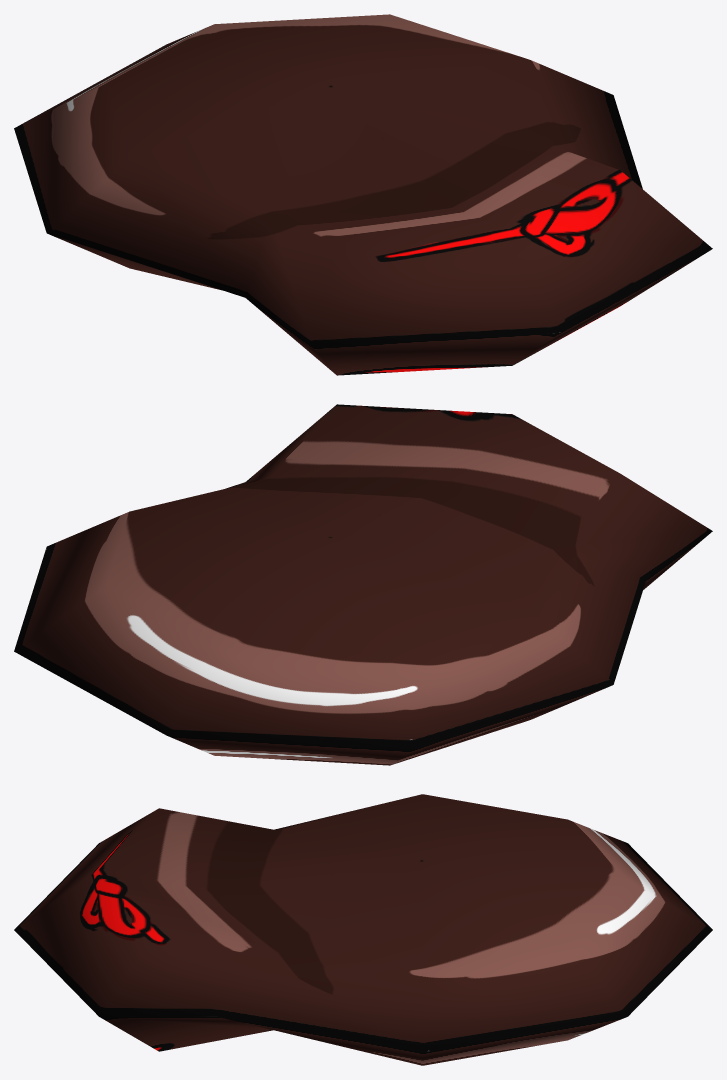
Rendered from castanyuela.obj.
The picture shows the model from 3 angles, top to bottom: view 1: azimuth 30°, elevation 25°; view 2: azimuth 150°, elevation 25°; view 3: azimuth 270°, elevation 25°; orthographic projection. The views are drawn at different scales.
Parts seen in each view (by area): view 1: Sphere; view 2: Sphere; view 3: Sphere.
Boxes of the visible parts, box(x1,y1,x2,y2) form: Sphere: box(14, 14, 712, 375); Sphere: box(14, 404, 712, 765); Sphere: box(14, 794, 712, 1065).
Size of the model in its own units: 2 by 0.5276 by 2.41.
